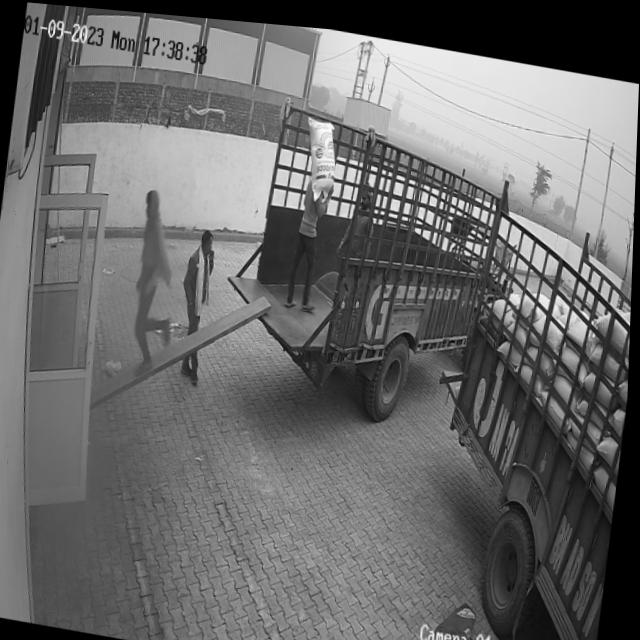sack: (298, 108, 342, 198)
